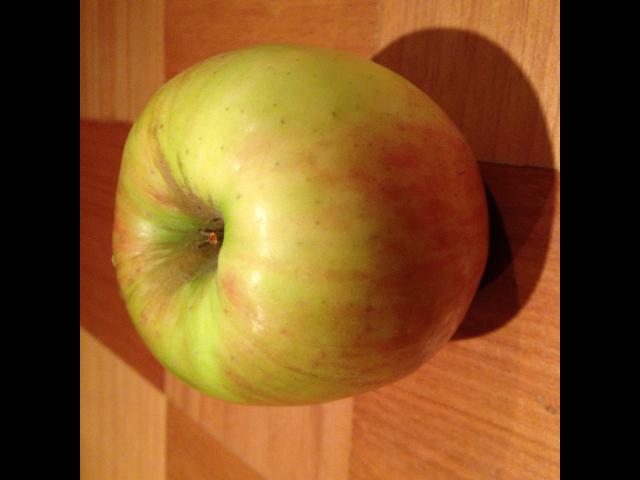Apples: (113, 44, 489, 404)
